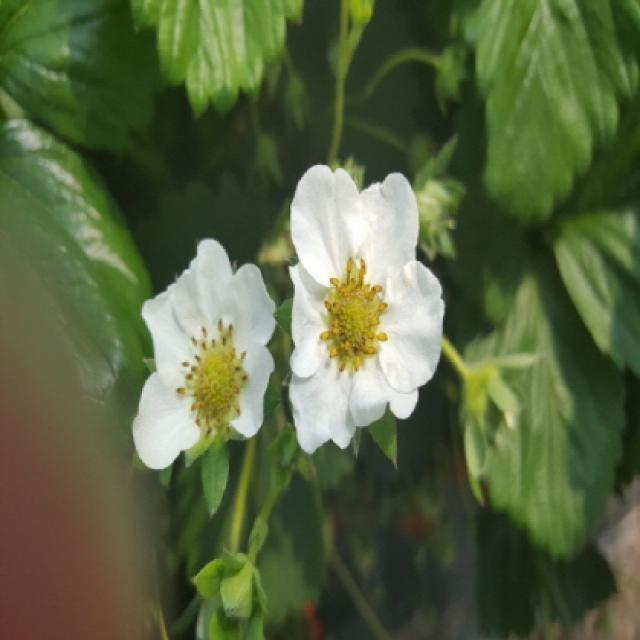Blossom Blight: (170, 313, 253, 438)
